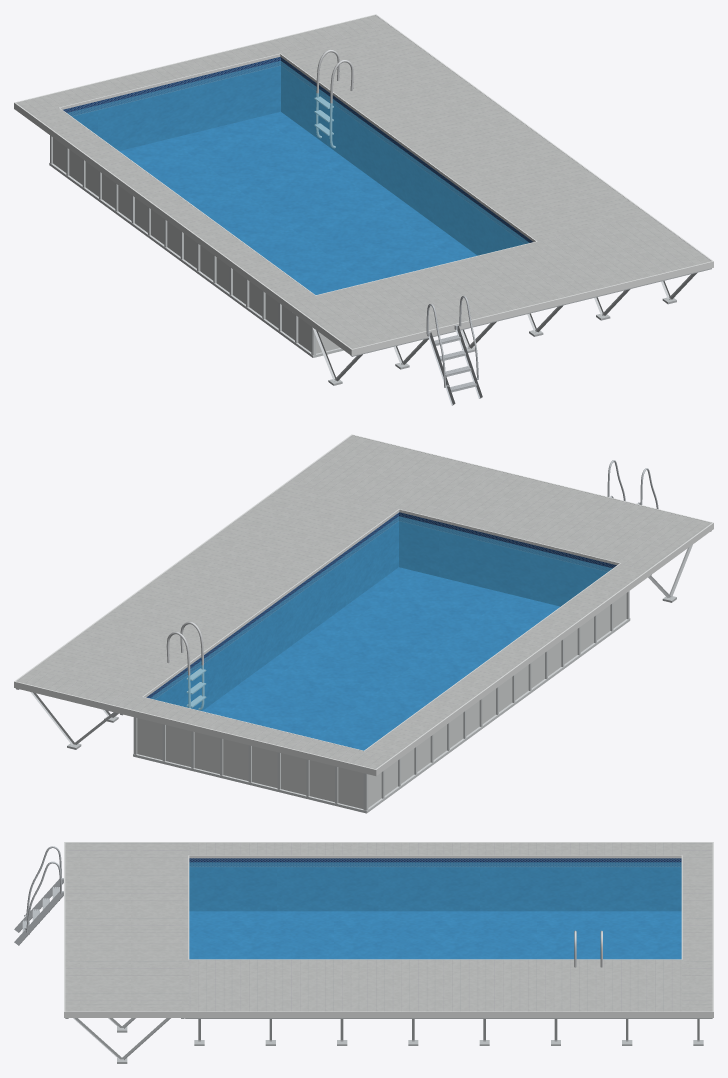
The model's file is kayak-pool-16x32-white-endside-ag-nofence.cd249462a0.glb.
3 renders of one model, top to bottom at view 1: azimuth 30°, elevation 25°; view 2: azimuth 150°, elevation 25°; view 3: azimuth 270°, elevation 25°, orthographic. The views are drawn at different scales.
Visible parts, largest first — view 1: deck, water, liner_floor, liner_wall, fascia, wall, upright, stud, ladder, steel; view 2: deck, water, liner_floor, liner_wall, wall, fascia, upright, stud, steel; view 3: deck, water, liner_wall, liner_floor, fascia, stud, ladder.
Part boxes in pixels (<box>): deck: <box>16,15,711,348</box>; water: <box>67,61,529,294</box>; liner_floor: <box>119,112,476,294</box>; liner_wall: <box>63,57,532,255</box>; fascia: <box>14,14,713,355</box>; wall: <box>53,137,339,353</box>; upright: <box>49,135,343,357</box>; stud: <box>291,268,711,385</box>; ladder: <box>426,295,482,405</box>; steel: <box>314,49,353,148</box>; deck: <box>16,435,711,768</box>; water: <box>150,516,612,750</box>; liner_floor: <box>203,567,559,750</box>; liner_wall: <box>146,512,616,710</box>; wall: <box>137,593,626,809</box>; fascia: <box>14,434,713,775</box>; upright: <box>133,591,630,813</box>; stud: <box>16,531,711,749</box>; steel: <box>166,621,206,710</box>; deck: <box>65,842,712,1011</box>; water: <box>189,862,681,959</box>; liner_wall: <box>189,858,681,911</box>; liner_floor: <box>189,911,681,959</box>; fascia: <box>64,842,713,1017</box>; stud: <box>65,1018,712,1063</box>; ladder: <box>14,846,63,945</box>.
Size of the model in its own units: 7.93 by 1.9 by 13.79.
Materials: 10 (3 with a texture image).
